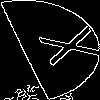X: (24, 25, 100, 71)
